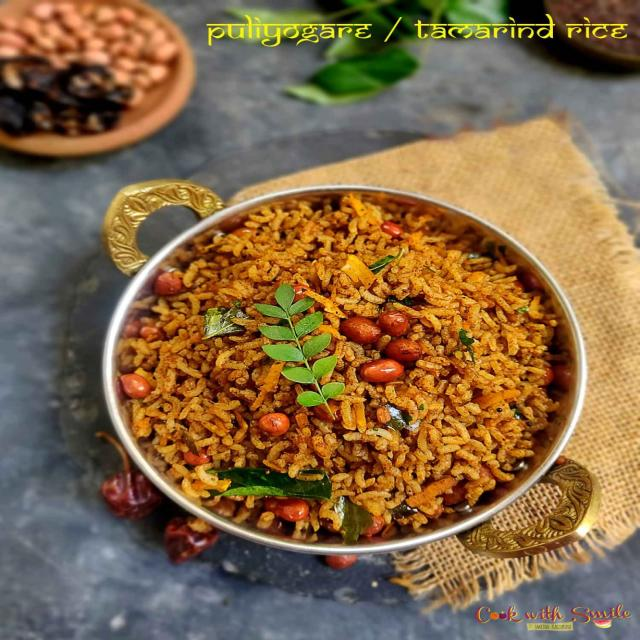puliyogare: (100, 178, 578, 552)
